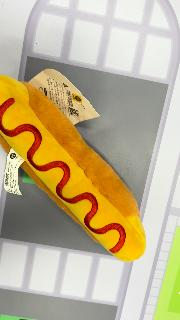hotdog: (1, 74, 147, 262)
